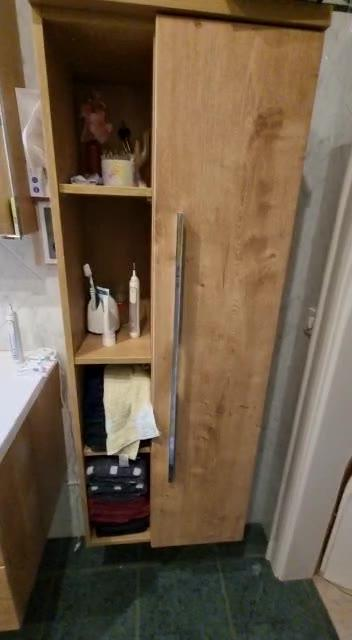cabinet_door: (154, 28, 277, 542)
handle: (160, 205, 192, 490)
